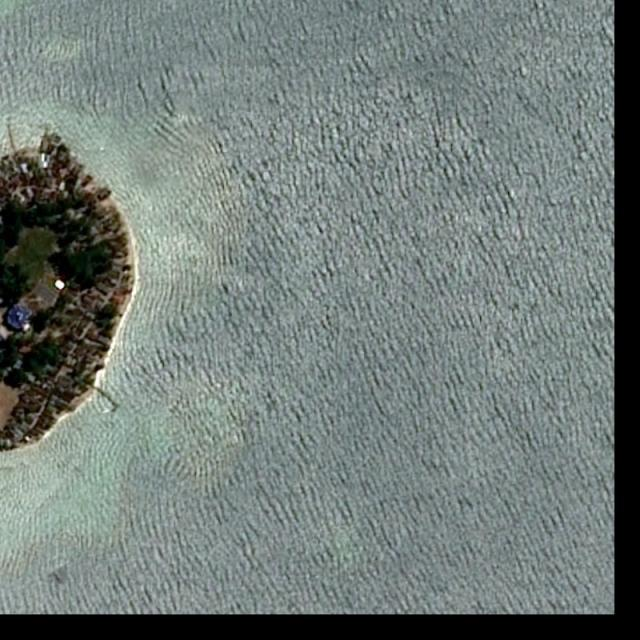ship: (99, 146, 106, 154)
